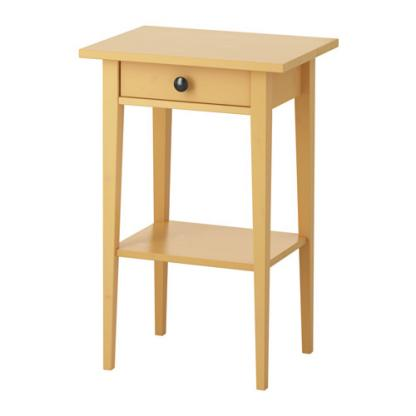Table: (74, 21, 342, 395)
